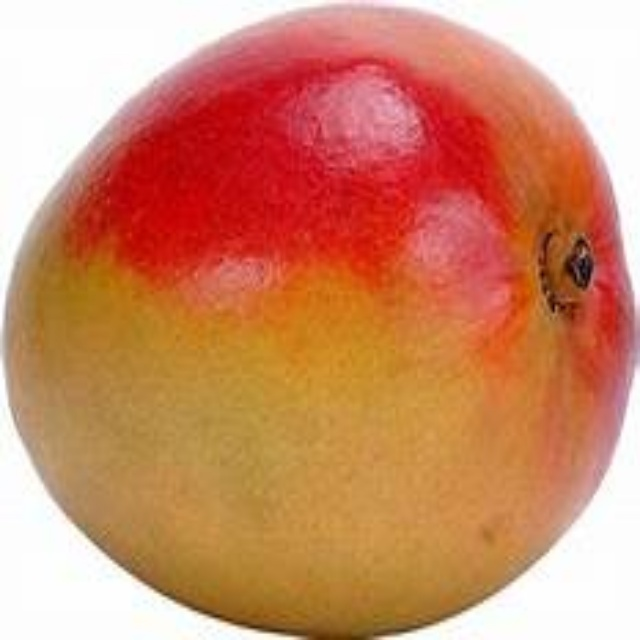mango: (9, 9, 631, 632)
